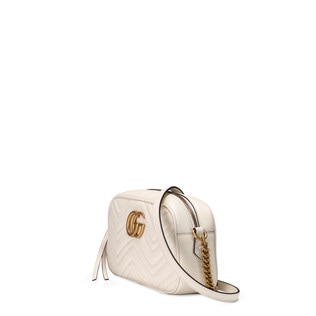Gucci: (95, 187, 236, 301), (122, 207, 149, 241)
